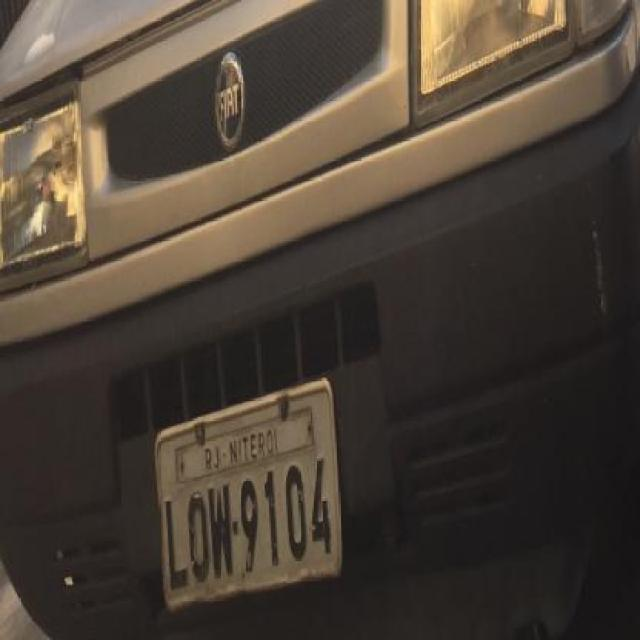old_plate: (147, 370, 350, 618)
